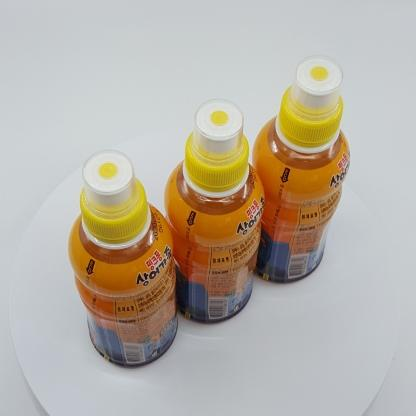----------235ML: (68, 149, 178, 367), (246, 54, 350, 283), (160, 99, 265, 324)
